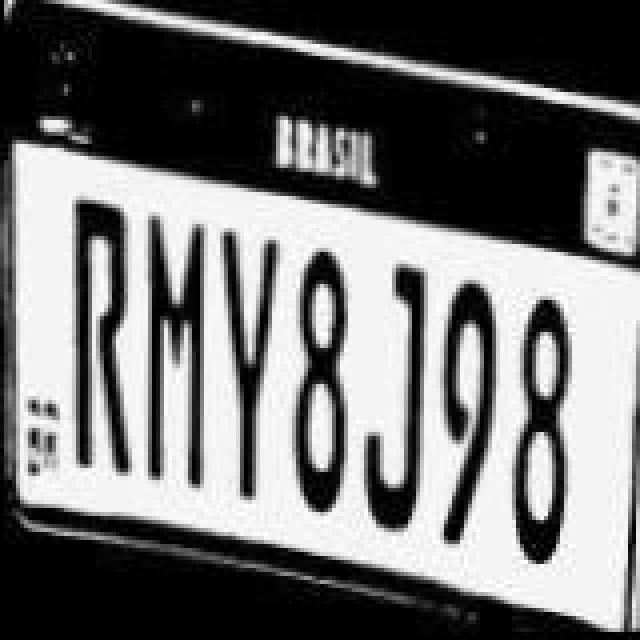8: (506, 298, 574, 570), (286, 254, 354, 522)
9: (428, 280, 500, 552)
J: (358, 264, 426, 540)
M: (140, 218, 216, 494)
R: (68, 196, 136, 480)
Y: (216, 226, 284, 502)
